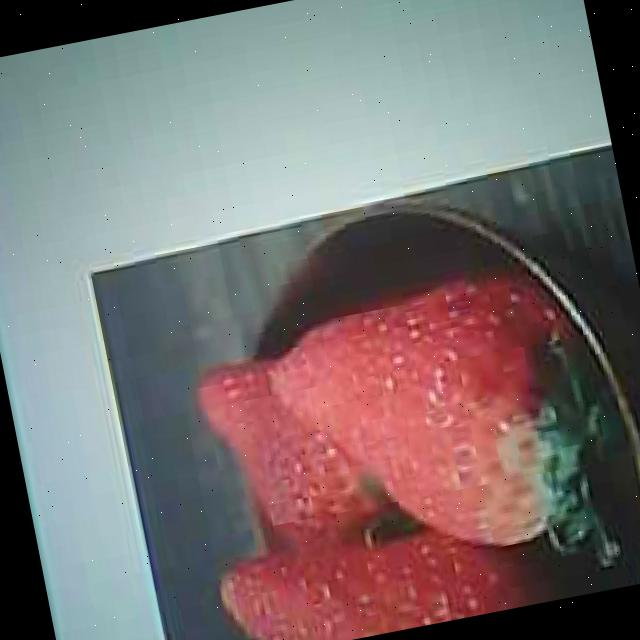strawberry: (261, 258, 624, 582)
